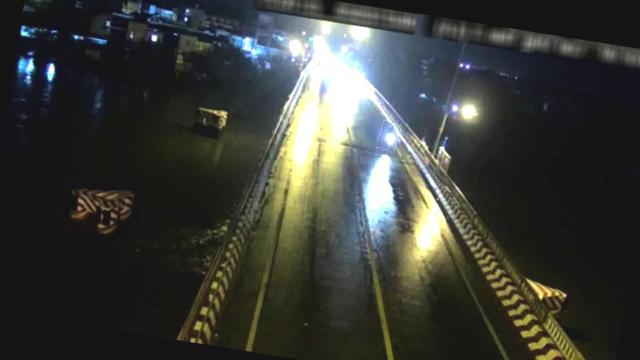Bike: (376, 120, 401, 152)
